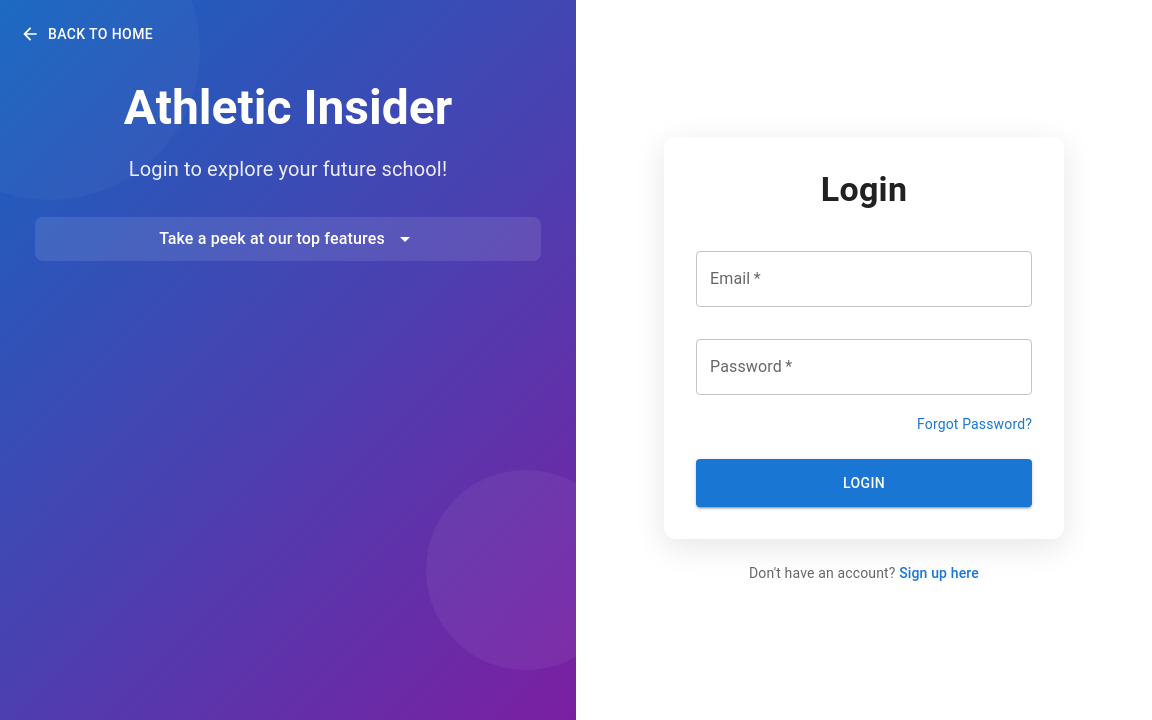
Login Component › uses errorData.detail when present on failed login
The width and height of the screenshot is (1152, 720).
Type "u@x.com" into the field labelled "Email *" at (864, 279), box x1=696 y1=251 x2=1032 y2=307
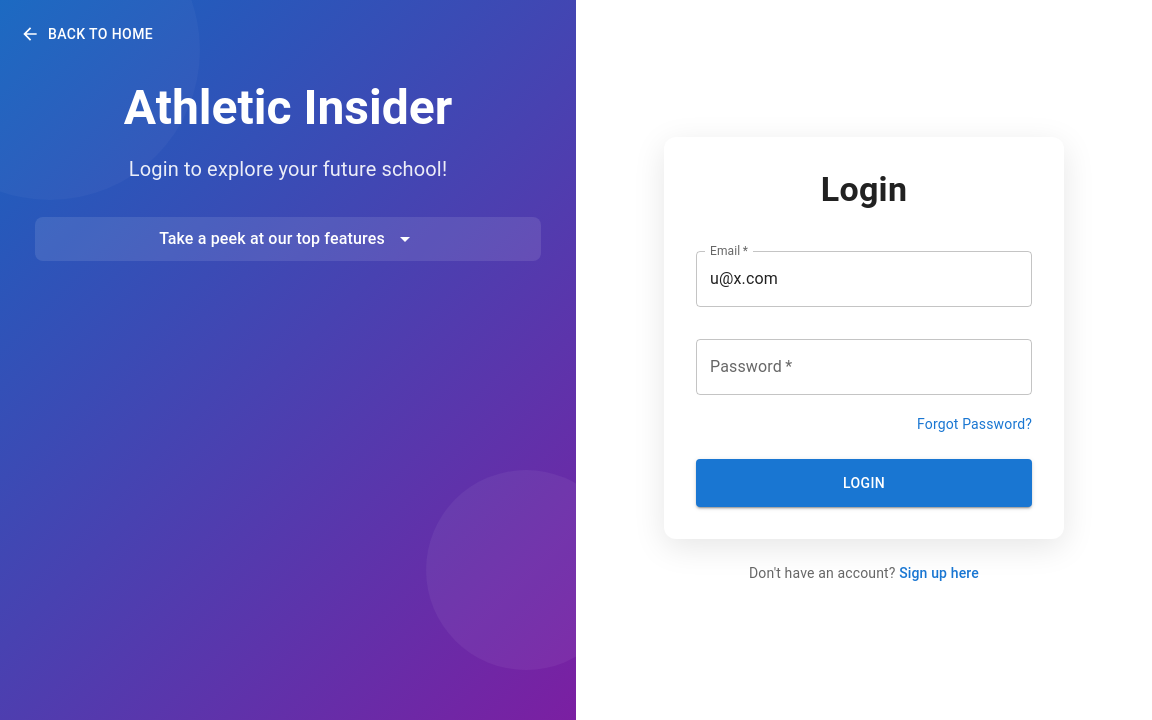
Type "pw" into the password field labelled "Password *" at (864, 367), box x1=696 y1=339 x2=1032 y2=395
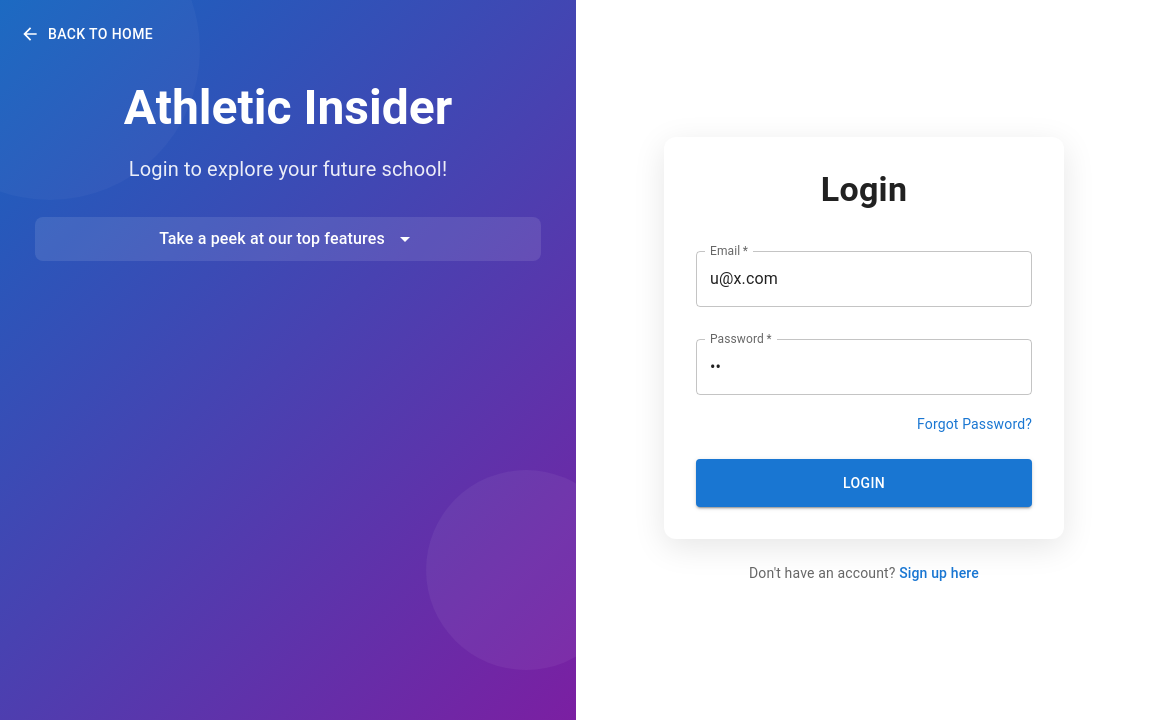
Click the button "Login" at (864, 483), box x1=696 y1=459 x2=1032 y2=507
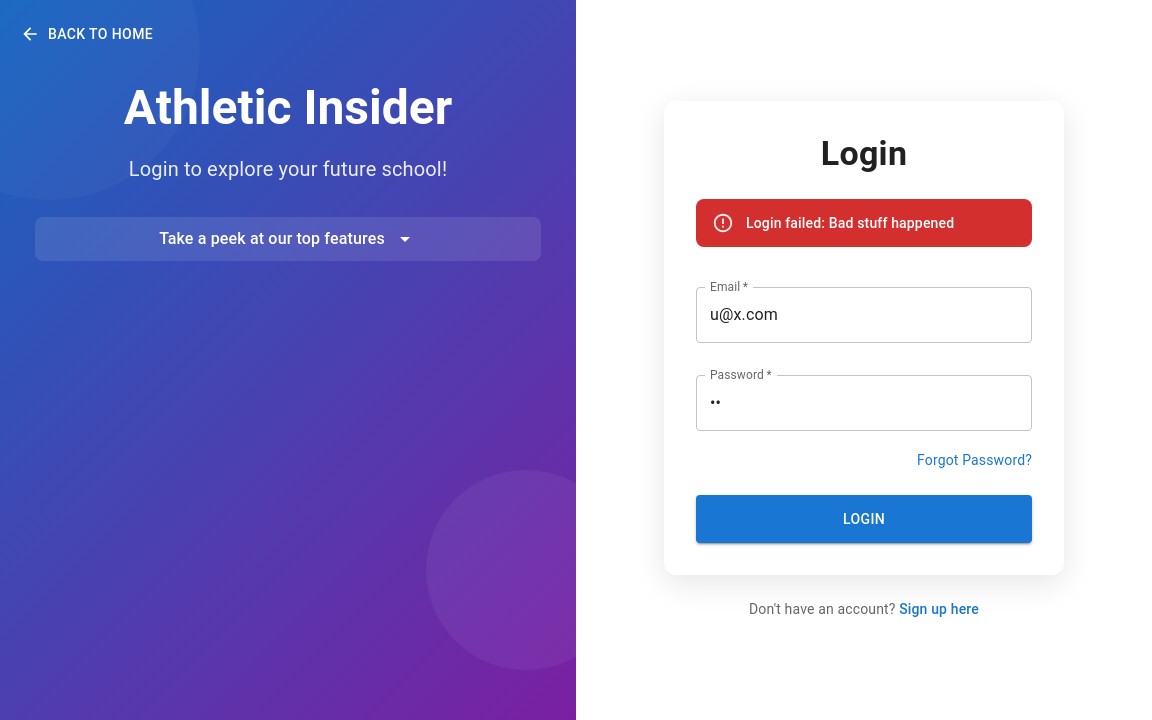
Now the text "Login failed: Bad stuff happened" is shown, box x1=746 y1=215 x2=954 y2=231
